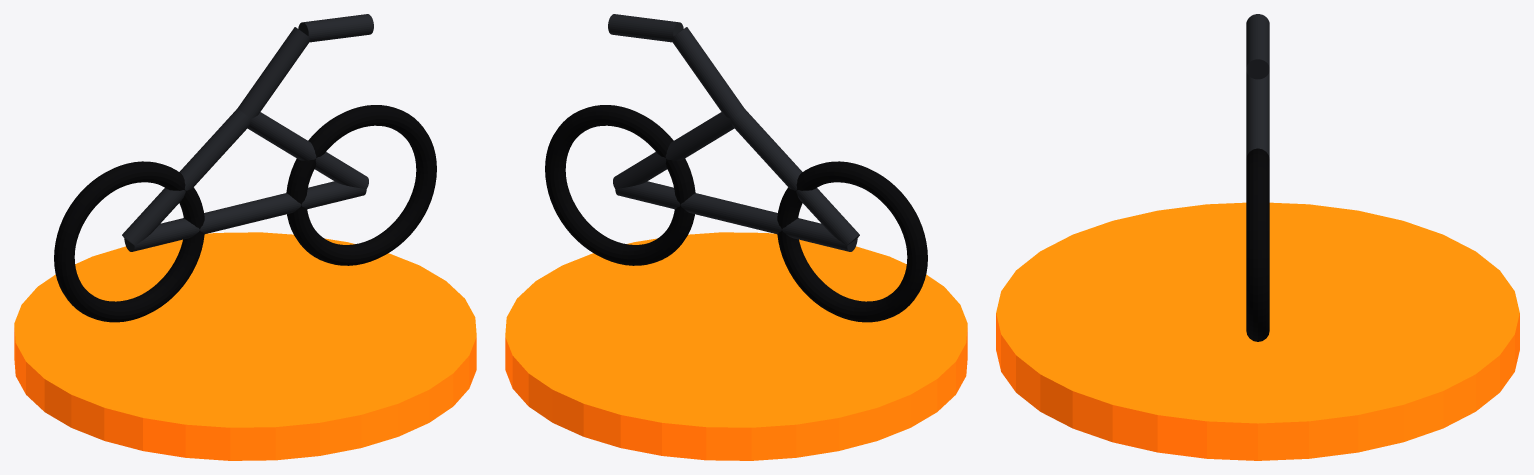
File: fitness_spin_bike.dae
The picture shows the model from 3 angles, left to right: view 1: azimuth 30°, elevation 25°; view 2: azimuth 150°, elevation 25°; view 3: azimuth 270°, elevation 25°; orthographic projection. The views are drawn at different scales.
Parts seen in each view (by area): view 1: 02_08_Popular_Fitness_Spin_Bike_ROOT_base, 02_08_Popular_Fitness_Spin_Bike_part_01, 02_08_Popular_Fitness_Spin_Bike_part_02, 02_08_Popular_Fitness_Spin_Bike_part_05, 02_08_Popular_Fitness_Spin_Bike_part_03, 02_08_Popular_Fitness_Spin_Bike_part_04, 02_08_Popular_Fitness_Spin_Bike_part_06, 02_08_Popular_Fitness_Spin_Bike_part_07; view 2: 02_08_Popular_Fitness_Spin_Bike_ROOT_base, 02_08_Popular_Fitness_Spin_Bike_part_01, 02_08_Popular_Fitness_Spin_Bike_part_02, 02_08_Popular_Fitness_Spin_Bike_part_05, 02_08_Popular_Fitness_Spin_Bike_part_03, 02_08_Popular_Fitness_Spin_Bike_part_04, 02_08_Popular_Fitness_Spin_Bike_part_06, 02_08_Popular_Fitness_Spin_Bike_part_07; view 3: 02_08_Popular_Fitness_Spin_Bike_ROOT_base, 02_08_Popular_Fitness_Spin_Bike_part_02, 02_08_Popular_Fitness_Spin_Bike_part_04, 02_08_Popular_Fitness_Spin_Bike_part_07.
Boxes of the visible parts, x1,y1,x2,y2 form: 02_08_Popular_Fitness_Spin_Bike_ROOT_base: (14, 232, 476, 460); 02_08_Popular_Fitness_Spin_Bike_part_01: (54, 161, 204, 322); 02_08_Popular_Fitness_Spin_Bike_part_02: (286, 105, 436, 265); 02_08_Popular_Fitness_Spin_Bike_part_05: (124, 181, 366, 251); 02_08_Popular_Fitness_Spin_Bike_part_03: (122, 108, 250, 245); 02_08_Popular_Fitness_Spin_Bike_part_04: (247, 112, 368, 188); 02_08_Popular_Fitness_Spin_Bike_part_06: (237, 27, 309, 118); 02_08_Popular_Fitness_Spin_Bike_part_07: (298, 14, 373, 42); 02_08_Popular_Fitness_Spin_Bike_ROOT_base: (505, 232, 967, 460); 02_08_Popular_Fitness_Spin_Bike_part_01: (777, 161, 927, 322); 02_08_Popular_Fitness_Spin_Bike_part_02: (545, 105, 695, 265); 02_08_Popular_Fitness_Spin_Bike_part_05: (615, 181, 857, 251); 02_08_Popular_Fitness_Spin_Bike_part_03: (731, 108, 859, 245); 02_08_Popular_Fitness_Spin_Bike_part_04: (613, 112, 734, 188); 02_08_Popular_Fitness_Spin_Bike_part_06: (672, 27, 744, 118); 02_08_Popular_Fitness_Spin_Bike_part_07: (608, 14, 683, 42); 02_08_Popular_Fitness_Spin_Bike_ROOT_base: (996, 202, 1519, 460); 02_08_Popular_Fitness_Spin_Bike_part_02: (1246, 148, 1269, 341); 02_08_Popular_Fitness_Spin_Bike_part_04: (1246, 72, 1269, 158); 02_08_Popular_Fitness_Spin_Bike_part_07: (1246, 14, 1269, 79).
Size of the model in its own units: 0.76 by 0.5893 by 0.76.
